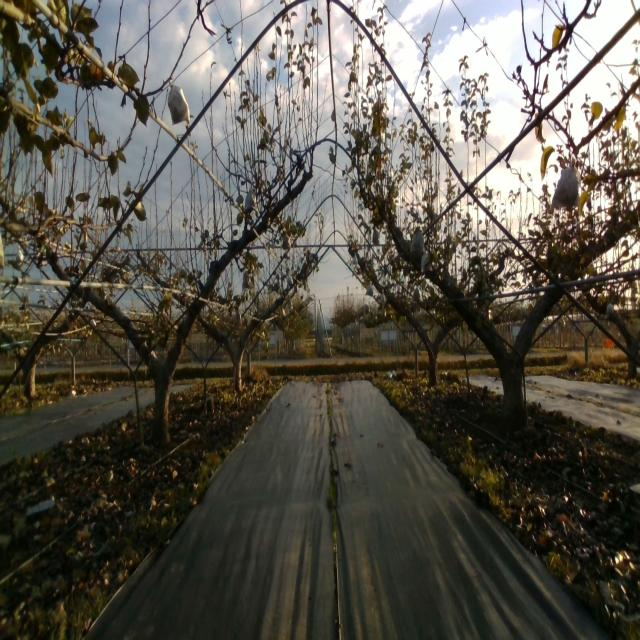pearbags: (551, 154, 581, 211), (167, 79, 190, 125), (244, 186, 259, 214), (410, 229, 426, 255), (421, 252, 433, 273), (242, 270, 253, 290)
